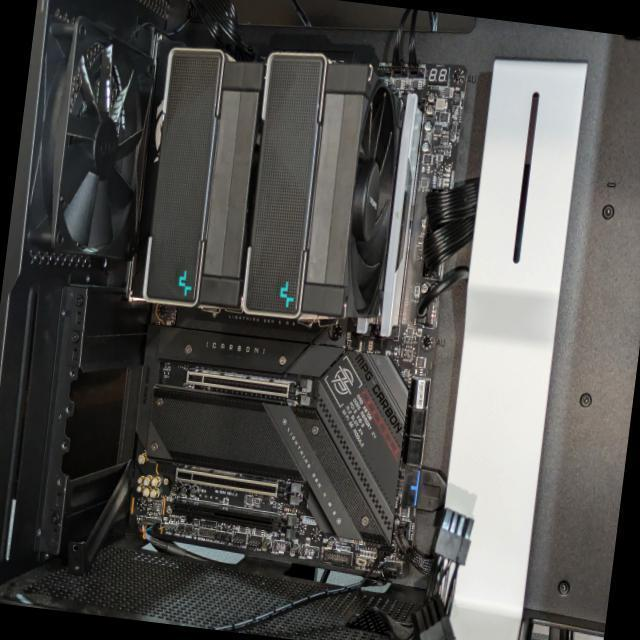CPU_Fan: (138, 34, 411, 333)
Mainboard: (122, 32, 472, 580)
RAM: (377, 91, 427, 338), (356, 316, 376, 336)
